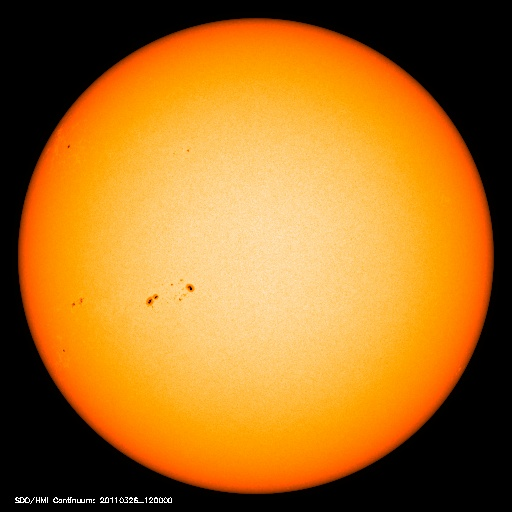sunspot: (137, 272, 197, 315), (66, 286, 89, 318), (164, 141, 197, 162), (58, 135, 81, 158), (54, 343, 75, 358)
